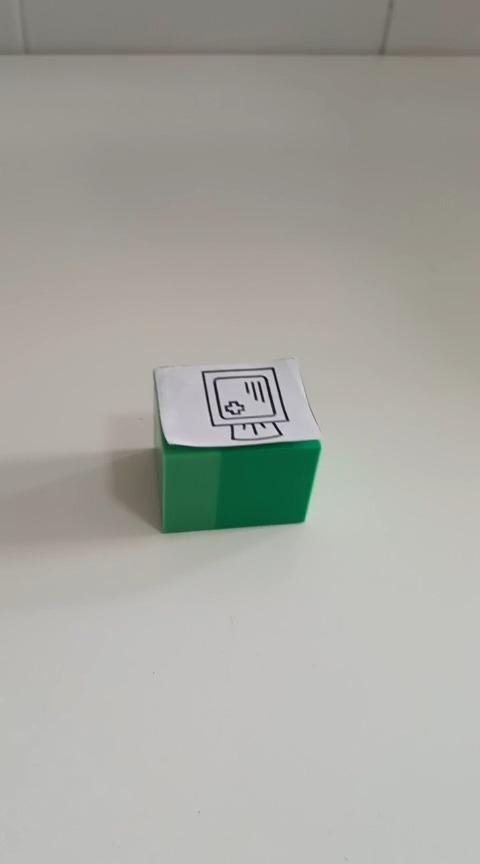Gauze: (151, 354, 322, 533)
